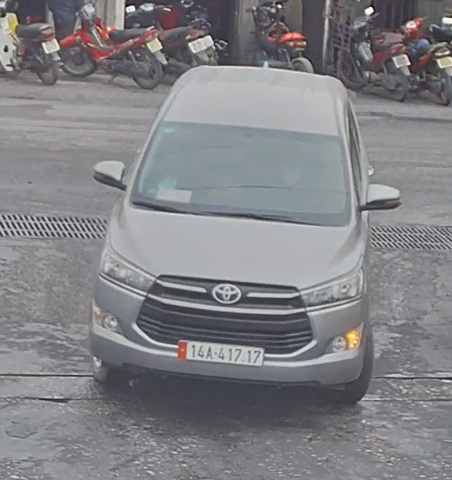vehicle plate: (174, 332, 266, 365)
